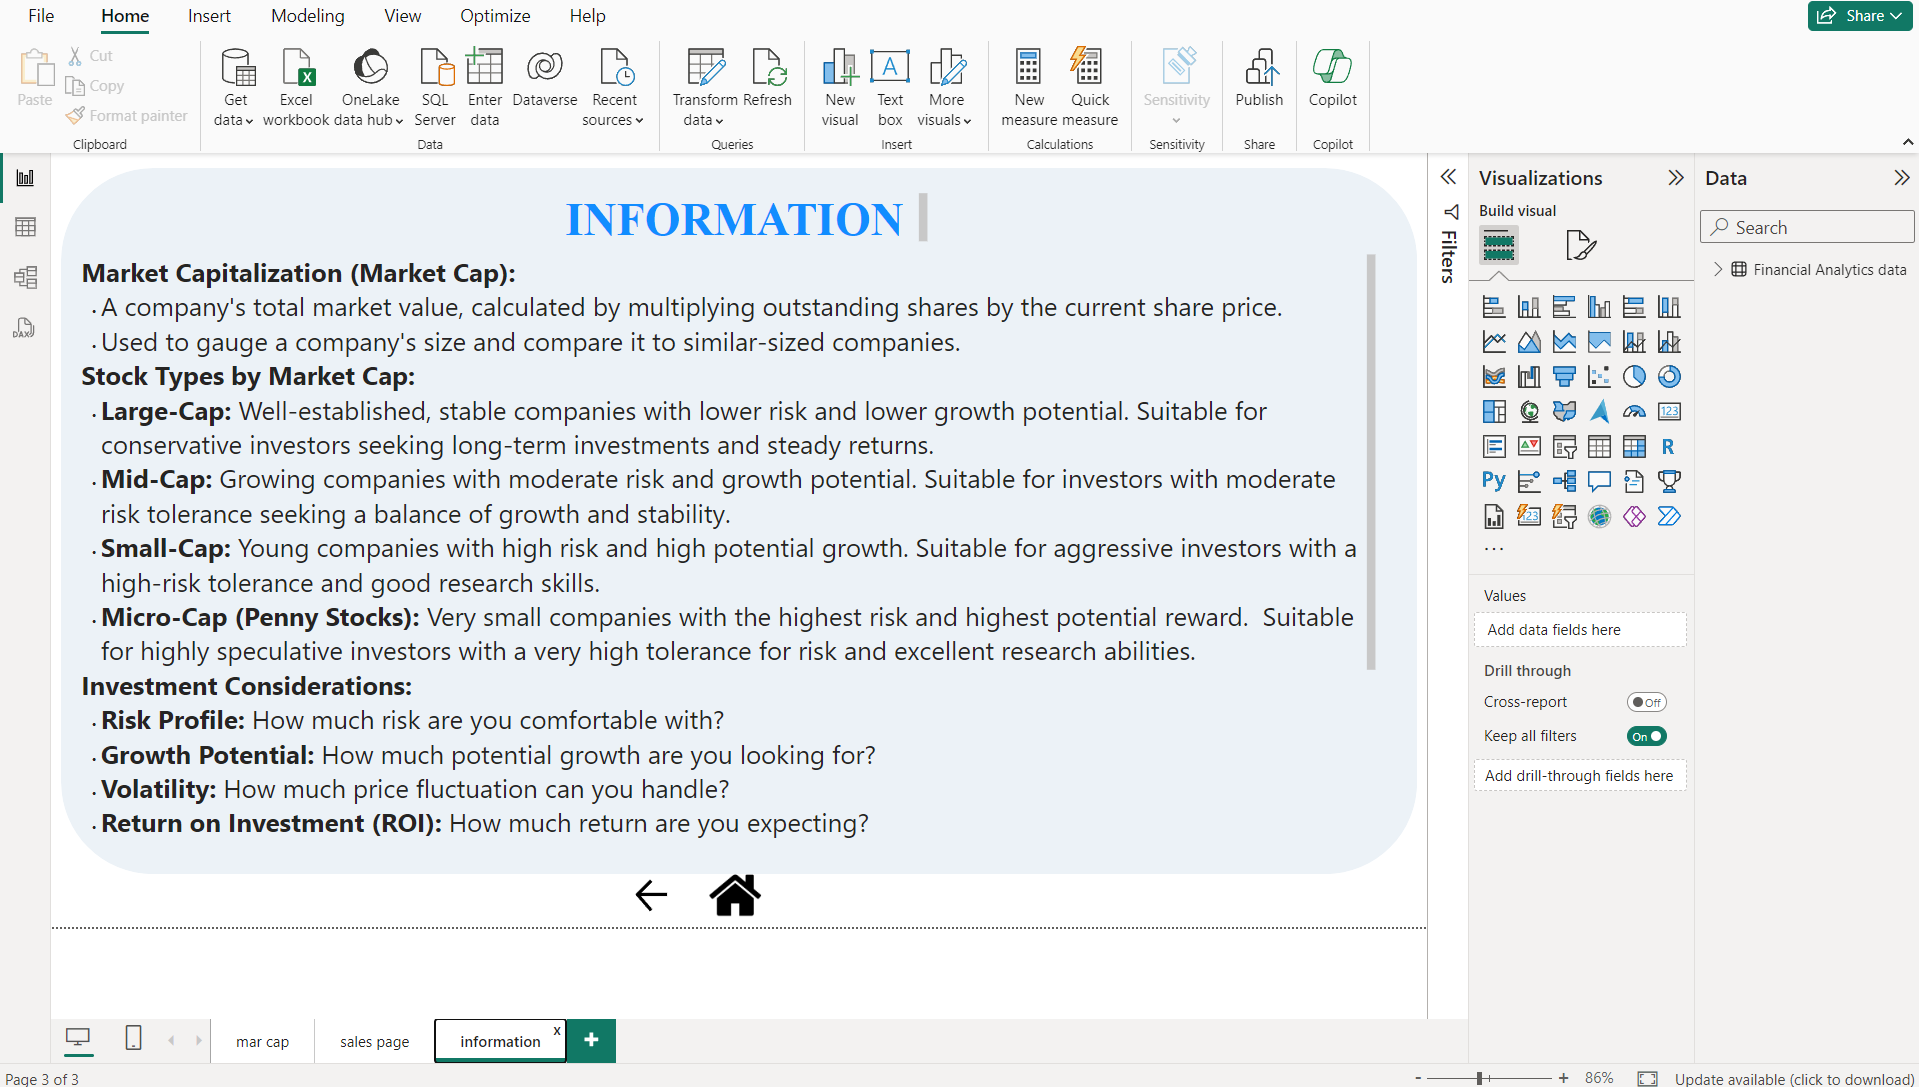

This screenshot's page, from the dashboard's own definition file:
{"tool":"powerbi","page":{"name":"information","canvas":[1280,720],"ordinal":2},"visuals":[{"type":"shape","box":[9.3,14,1261.6,657],"z":0,"group":"g1"},{"type":"textbox","box":[459.6,32.2,361.1,57.1],"z":1000,"group":"g1"},{"type":"textbox","box":[23,89.3,1213.6,560.9],"z":2000,"group":"g1"},{"type":"group","id":"g1","title":"Group 1","box":[9.3,14,1261.6,657],"z":2001},{"type":"image","box":[583.5,662.2,106.2,57.8],"z":2004},{"type":"actionButton","box":[539.5,670.9,100,39.5],"z":2005}]}

Visuals, with their boxes on the page's 1280x720 design canvas (x1, y1, x2, y2). These are canvas units, not pixel positions in the 1919x1087 screenshot, which may show the page scaled, cropped or inside an application window:
shape: {"left": 9, "top": 14, "right": 1271, "bottom": 671}
textbox: {"left": 460, "top": 32, "right": 821, "bottom": 89}
textbox: {"left": 23, "top": 89, "right": 1237, "bottom": 650}
"Group 1" group: {"left": 9, "top": 14, "right": 1271, "bottom": 671}
image: {"left": 584, "top": 662, "right": 690, "bottom": 720}
actionButton: {"left": 540, "top": 671, "right": 640, "bottom": 710}
